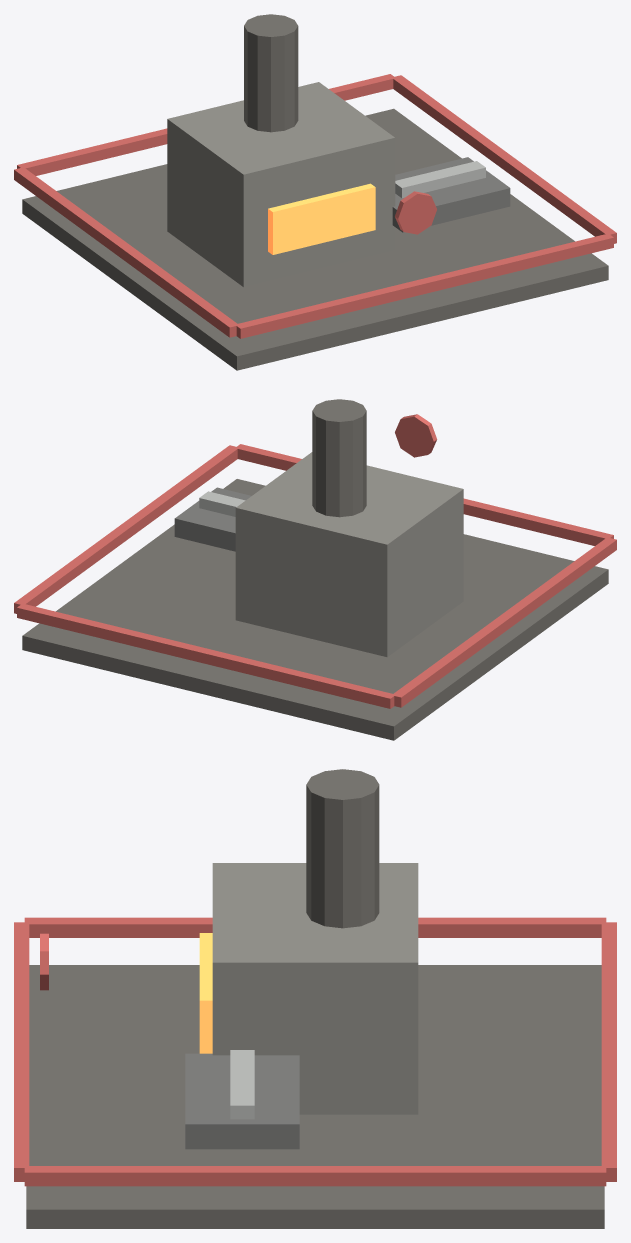
The model's file is t5_smelter.glb.
3 renders of one model, top to bottom at view 1: azimuth 30°, elevation 25°; view 2: azimuth 150°, elevation 25°; view 3: azimuth 270°, elevation 25°, orthographic. The views are drawn at different scales.
Visible parts, largest first — view 1: FootprintBase, FurnaceBody, Chimney, TierFrontTrim, HearthGlow, TierLeftTrim, TierRightTrim, IngotTray, TierBackTrim, TierEmblem, Ingot, Ingot.002; view 2: FootprintBase, FurnaceBody, Chimney, TierBackTrim, TierLeftTrim, TierRightTrim, TierFrontTrim, IngotTray, TierEmblem, Ingot.003; view 3: FootprintBase, FurnaceBody, TierRightTrim, Chimney, IngotTray, TierLeftTrim, TierBackTrim, TierFrontTrim, HearthGlow, Ingot.003.
Part boxes in pixels (x1,y1,x2,y2): FootprintBase: (22,108,608,370); FurnaceBody: (167,82,395,287); Chimney: (244,14,298,132); TierFrontTrim: (235,233,613,338); HearthGlow: (268,183,375,254); TierLeftTrim: (14,167,238,337); TierRightTrim: (393,75,616,243); IngotTray: (392,157,510,232); TierBackTrim: (17,74,394,175); TierEmblem: (395,191,436,234); Ingot: (395,174,433,198); Ingot.002: (437,165,468,189); FootprintBase: (22,479,608,740); FurnaceBody: (235,452,463,657); Chimney: (312,399,366,517); TierBackTrim: (17,603,395,708); TierLeftTrim: (392,537,616,707); TierRightTrim: (14,445,237,613); TierFrontTrim: (235,444,613,545); IngotTray: (174,487,251,551); TierEmblem: (395,414,437,457); Ingot.003: (199,491,238,515); FootprintBase: (26,965,604,1228); FurnaceBody: (212,863,418,1114); TierRightTrim: (24,1166,606,1186); Chimney: (306,769,379,928); IngotTray: (185,1053,299,1149); TierLeftTrim: (24,917,606,937); TierBackTrim: (601,922,616,1181); TierFrontTrim: (14,922,29,1181); HearthGlow: (199,933,212,1053); Ingot.003: (230,1085,254,1119).
Size of the model in its own units: 3.96 by 2.17 by 3.96.
